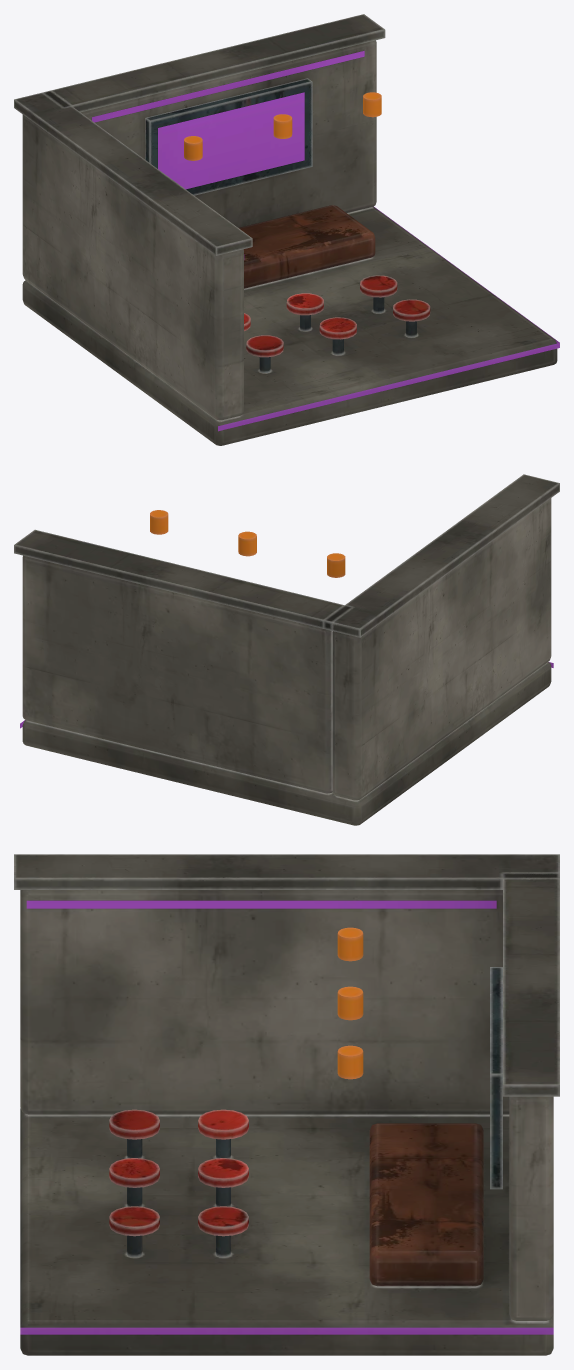
Rendered from entertainment_center.glb.
The picture shows the model from 3 angles, top to bottom: view 1: azimuth 30°, elevation 25°; view 2: azimuth 150°, elevation 25°; view 3: azimuth 270°, elevation 25°; orthographic projection. The views are drawn at different scales.
Parts seen in each view (by area): view 1: te_entertainment_center; view 2: te_entertainment_center; view 3: te_entertainment_center.
Part boxes in pixels (x1,y1,x2,y2): te_entertainment_center: (14, 14, 559, 445); te_entertainment_center: (14, 474, 559, 825); te_entertainment_center: (14, 854, 559, 1355).
Size of the model in its own units: 0.86 by 0.48 by 0.86.
1 material, 1 textured.
